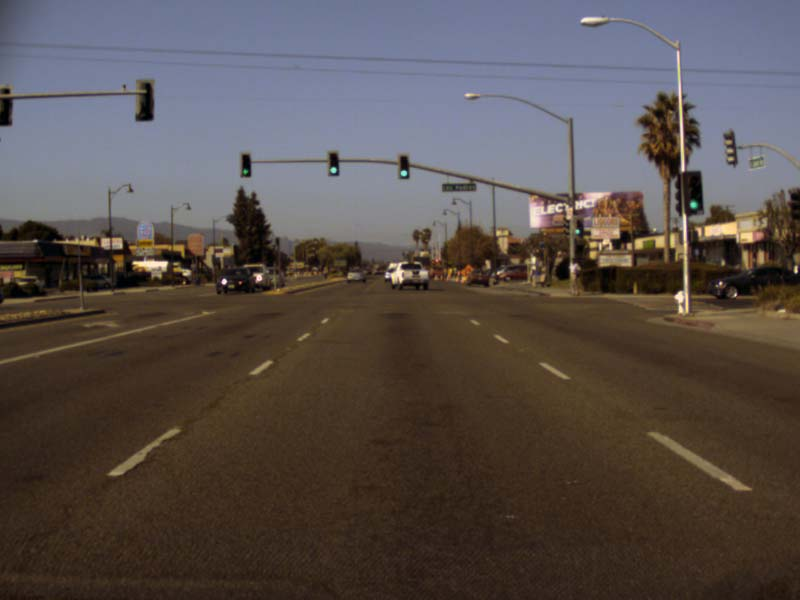Green: (685, 170, 703, 214), (239, 152, 251, 177), (398, 154, 410, 179), (327, 151, 338, 176), (575, 219, 583, 238)
